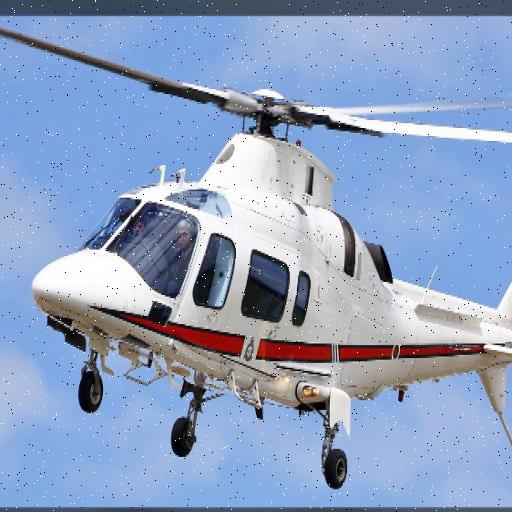helicopter: (26, 43, 512, 493)
